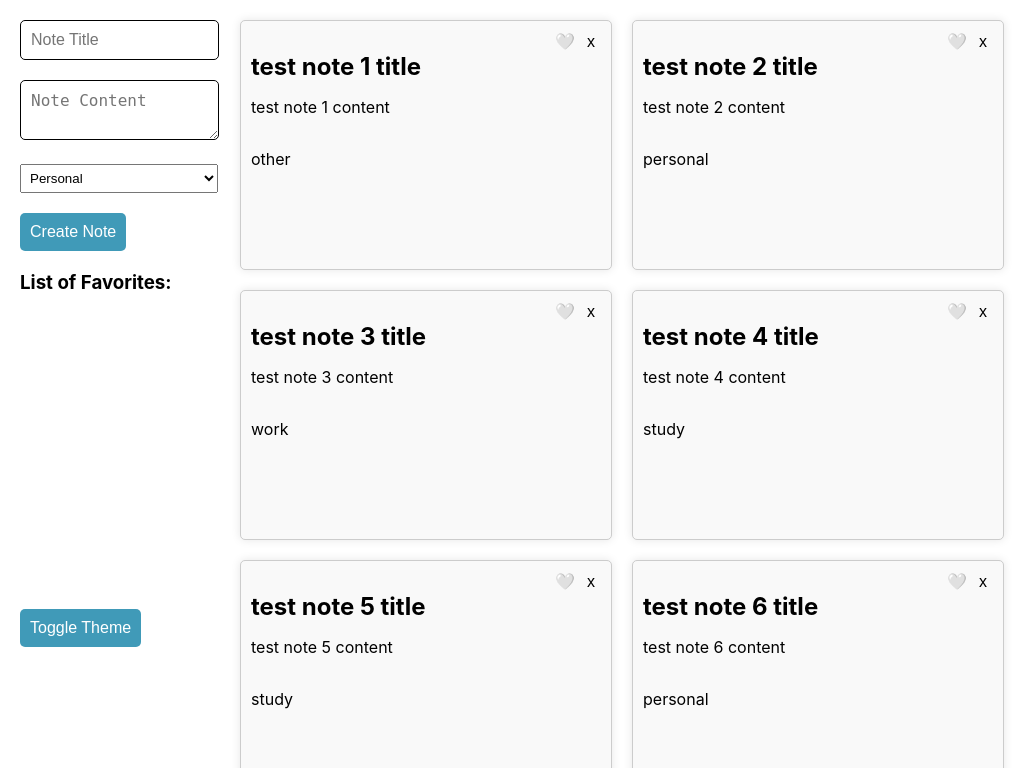
Test: Delete a StickyNote › delete sticky note 1
The image size is (1024, 768).
Click the 1st button "x" at [591, 42], box x1=581 y1=31 x2=601 y2=52
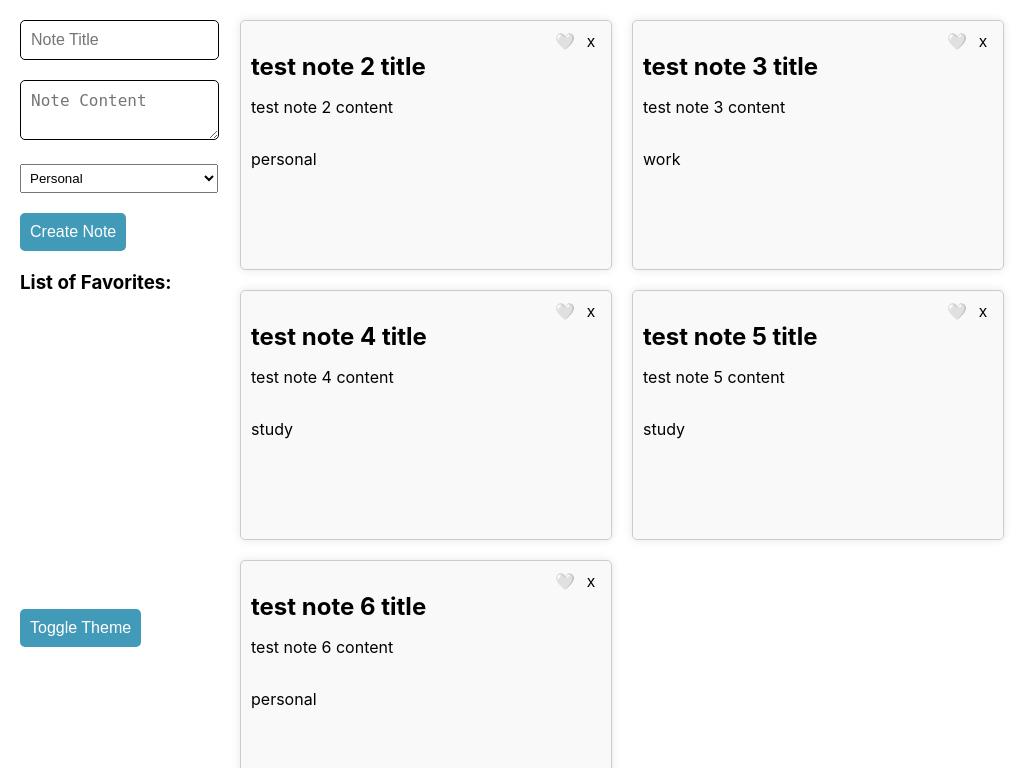
Expected: the heading "test note 2 title" is shown, x1=251 y1=52 x2=426 y2=81
Expected: the text box titled "test note 1 content" is gone
